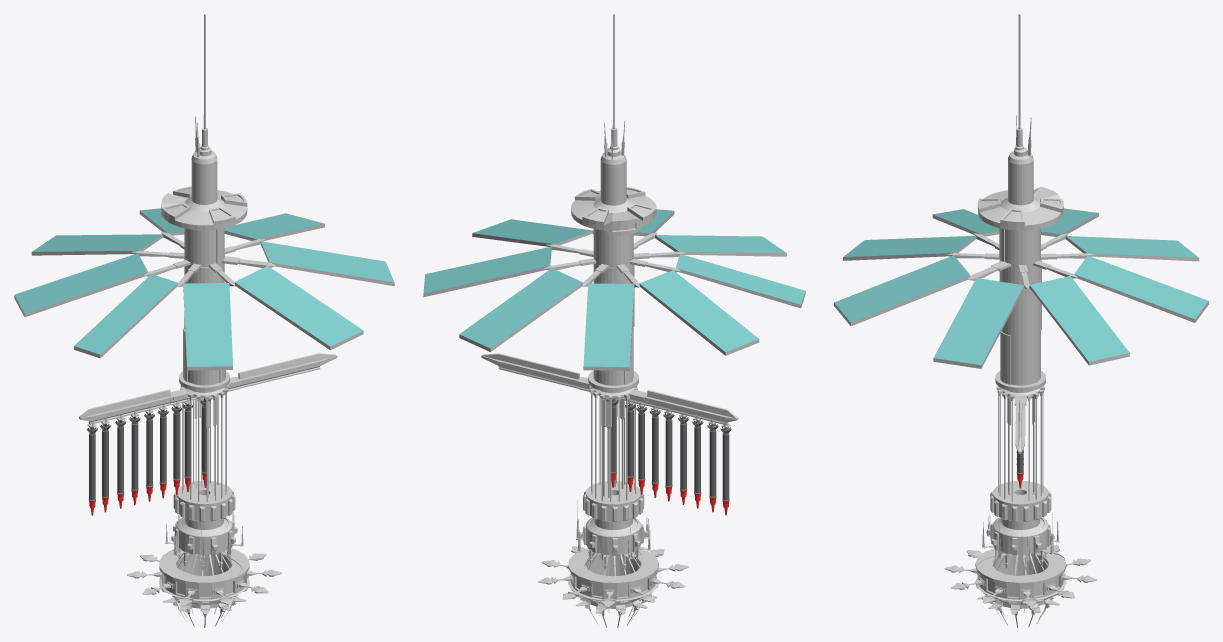
File: base espacial fbx.fbx
The picture shows the model from 3 angles, left to right: view 1: azimuth 30°, elevation 25°; view 2: azimuth 150°, elevation 25°; view 3: azimuth 270°, elevation 25°; orthographic projection.
Visible parts, largest first — view 1: Cilindro, Cilindro.008, Cilindro.005, Cilindro.002, Cilindro.004, Cilindro.007, Cilindro.006, Cilindro.001, Cilindro.009; view 2: Cilindro, Cilindro.001, Cilindro.006, Cilindro.004, Cilindro.008, Cilindro.007, Cilindro.002, Cilindro.005, Cilindro.009; view 3: Cilindro.
Boxes of the visible parts, left/top/right/bottom form: Cilindro: left=14, top=14, right=394, bottom=627; Cilindro.008: left=171, top=406, right=182, bottom=494; Cilindro.005: left=129, top=416, right=140, bottom=505; Cilindro.002: left=115, top=420, right=126, bottom=508; Cilindro.004: left=86, top=427, right=97, bottom=515; Cilindro.007: left=157, top=409, right=168, bottom=498; Cilindro.006: left=144, top=413, right=154, bottom=501; Cilindro.001: left=100, top=424, right=110, bottom=512; Cilindro.009: left=182, top=403, right=193, bottom=492; Cilindro: left=423, top=14, right=805, bottom=627; Cilindro.001: left=707, top=424, right=718, bottom=512; Cilindro.006: left=663, top=413, right=674, bottom=501; Cilindro.004: left=720, top=427, right=731, bottom=515; Cilindro.008: left=636, top=406, right=647, bottom=494; Cilindro.007: left=649, top=410, right=660, bottom=498; Cilindro.002: left=692, top=420, right=703, bottom=508; Cilindro.005: left=678, top=417, right=689, bottom=504; Cilindro.009: left=625, top=404, right=635, bottom=491; Cilindro: left=834, top=14, right=1208, bottom=627.
Bounding box in the file's own units: 820 × 1467 × 822.
